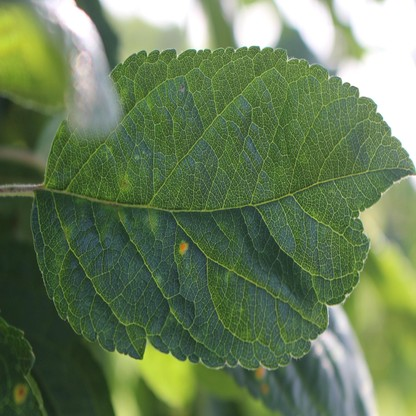rust: (13, 383, 29, 403), (255, 365, 266, 379), (177, 240, 187, 254), (262, 382, 268, 392)
scab: (118, 176, 127, 188)
